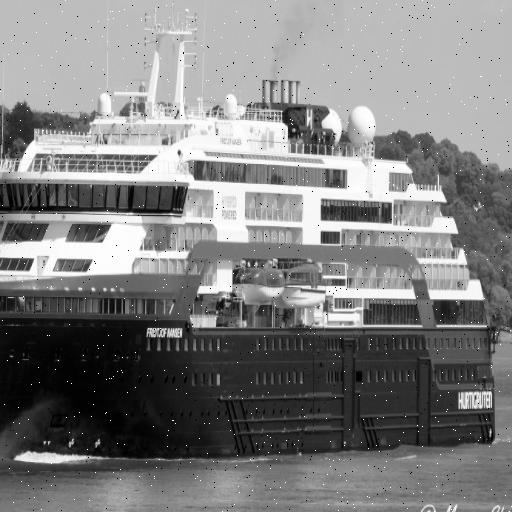cruises: (1, 1, 502, 475)
